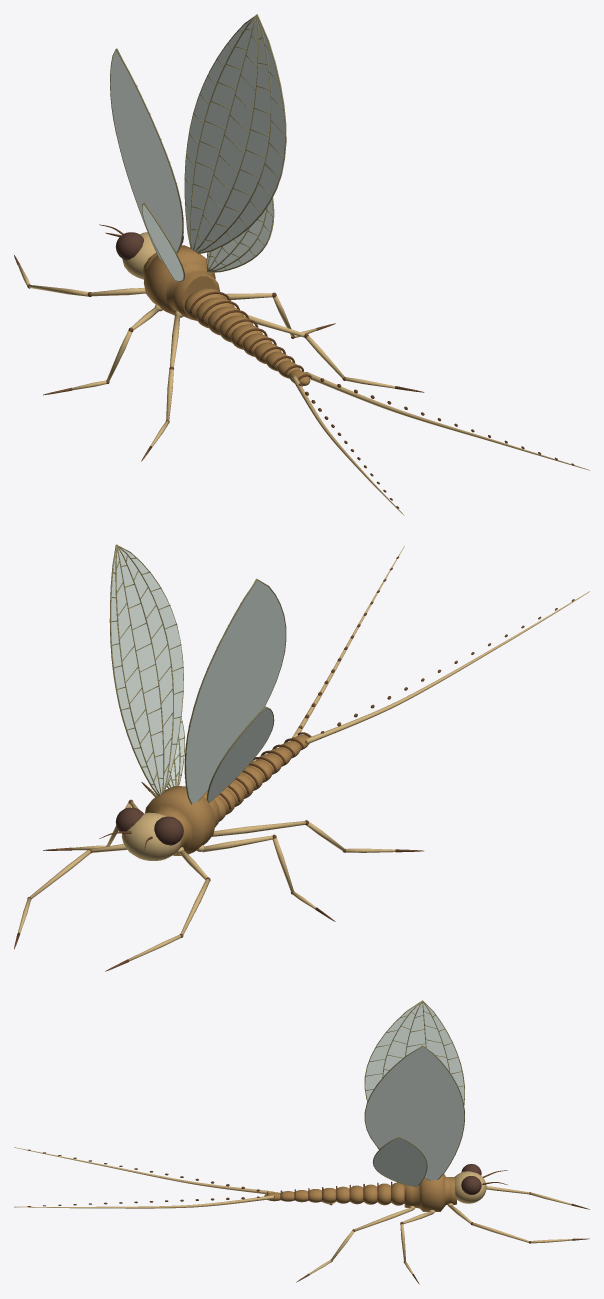
Rendered from Mayfly.fbx.
The picture shows the model from 3 angles, top to bottom: view 1: azimuth 30°, elevation 25°; view 2: azimuth 150°, elevation 25°; view 3: azimuth 270°, elevation 25°; orthographic projection. The views are drawn at different scales.
Parts seen in each view (by area): view 1: Material group Mayfly_WingMembrane, Material group Mayfly_AmberCuticle, Material group Mayfly_PaleJoints, Material group Mayfly_WingVeins, Material group Mayfly_SegmentBands; view 2: Material group Mayfly_WingMembrane, Material group Mayfly_PaleJoints, Material group Mayfly_WingVeins, Material group Mayfly_AmberCuticle, Material group Mayfly_SegmentBands, Material group Mayfly_CompoundEyes; view 3: Material group Mayfly_WingMembrane, Material group Mayfly_PaleJoints, Material group Mayfly_AmberCuticle, Material group Mayfly_WingVeins, Material group Mayfly_SegmentBands, Material group Mayfly_CompoundEyes.
Part boxes in pixels (box(x1,y1,x2,y2)): Material group Mayfly_WingMembrane: box(110, 18, 284, 281); Material group Mayfly_AmberCuticle: box(142, 245, 310, 385); Material group Mayfly_PaleJoints: box(17, 232, 589, 515); Material group Mayfly_WingVeins: box(110, 14, 286, 282); Material group Mayfly_SegmentBands: box(14, 224, 574, 508); Material group Mayfly_WingMembrane: box(111, 548, 285, 803); Material group Mayfly_PaleJoints: box(18, 546, 589, 961); Material group Mayfly_WingVeins: box(109, 544, 286, 804); Material group Mayfly_AmberCuticle: box(145, 735, 308, 855); Material group Mayfly_SegmentBands: box(14, 556, 574, 971); Material group Mayfly_CompoundEyes: box(115, 807, 183, 845); Material group Mayfly_WingMembrane: box(365, 1003, 464, 1186); Material group Mayfly_PaleJoints: box(14, 1147, 571, 1274); Material group Mayfly_AmberCuticle: box(264, 1174, 456, 1211); Material group Mayfly_WingVeins: box(364, 1000, 464, 1187); Material group Mayfly_SegmentBands: box(27, 1149, 589, 1284); Material group Mayfly_CompoundEyes: box(461, 1164, 481, 1194).
Bounding box in the file's own units: 0.3864 × 0.4119 × 1.
